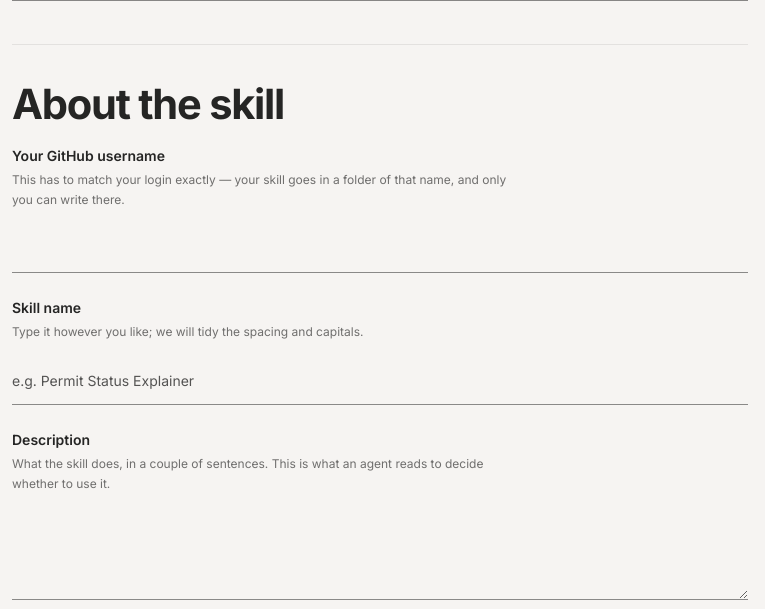
Test: Submit — plain language › rewrites a finding to name the question, not the key
(page scrolled)
Type "cityofx" into the field labelled "Your GitHub username" at x=380, y=249, box x1=12 y1=226 x2=748 y2=273
(page scrolled)
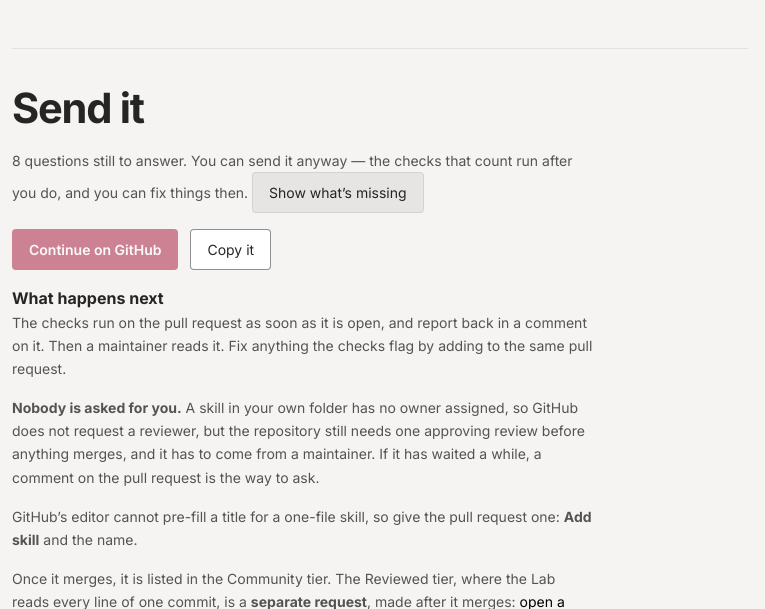
Click the button with test id "handoff" at x=95, y=250, box x1=12 y1=229 x2=178 y2=270
(page scrolled)
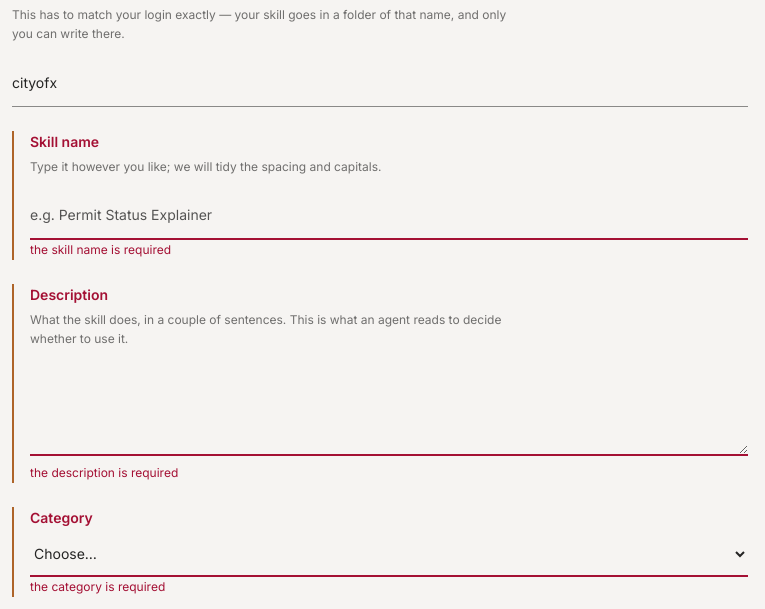
Expected: the text "the skill name is required" is shown, x1=30 y1=242 x2=171 y2=257
